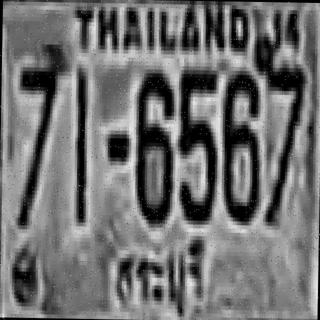N01: (71, 68, 86, 222)
N05: (176, 66, 216, 221)
N06: (218, 66, 258, 222), (132, 67, 172, 222)
N07: (14, 42, 64, 224), (263, 60, 303, 222)
P60: (110, 234, 210, 318)
